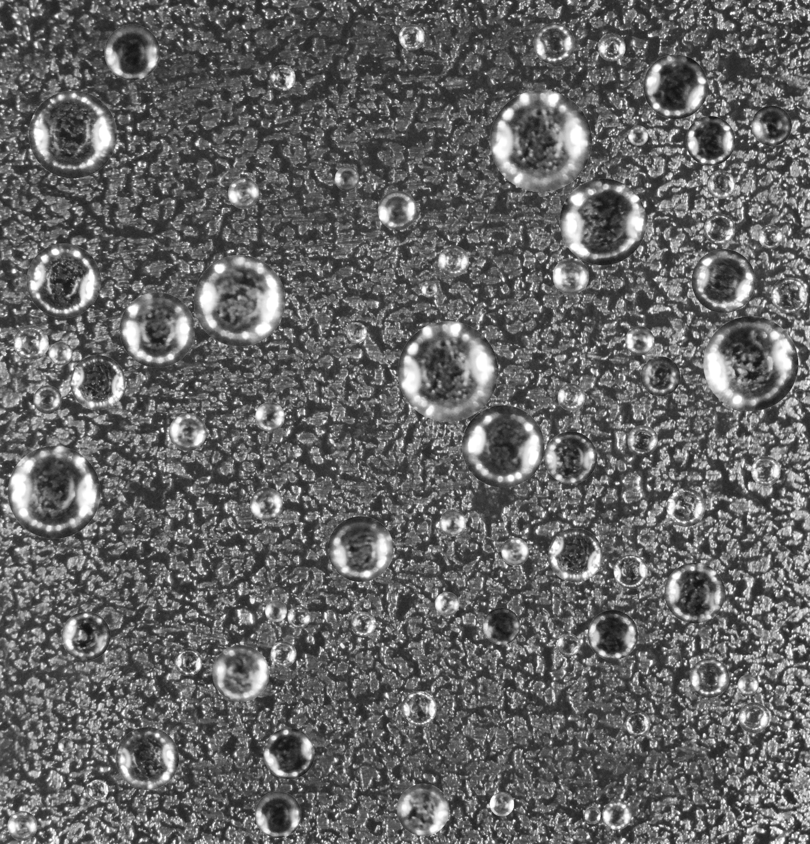Bubble: (490, 90, 591, 191), (397, 321, 498, 421), (703, 316, 798, 411), (7, 446, 100, 538), (193, 255, 285, 346), (28, 90, 116, 178), (559, 178, 646, 265), (462, 405, 544, 487), (119, 292, 194, 367), (26, 243, 100, 317), (327, 516, 393, 581), (643, 54, 708, 118), (691, 249, 755, 312), (116, 727, 178, 790), (664, 562, 725, 623), (212, 645, 269, 701), (104, 24, 159, 80), (70, 355, 125, 410), (548, 528, 602, 582), (544, 431, 597, 483), (397, 783, 449, 836), (263, 728, 314, 779), (587, 610, 637, 660), (685, 116, 735, 165), (61, 611, 110, 660), (254, 791, 301, 838), (533, 23, 574, 64), (640, 356, 680, 396), (751, 105, 791, 145), (689, 658, 729, 697), (666, 488, 705, 526), (378, 191, 416, 229), (169, 413, 206, 450), (483, 607, 520, 644), (552, 258, 589, 294), (771, 277, 806, 313), (13, 325, 48, 360), (401, 691, 436, 726), (613, 554, 647, 588), (250, 487, 283, 520), (704, 213, 735, 245), (228, 177, 259, 208), (738, 702, 769, 733), (438, 245, 468, 276), (627, 425, 657, 455), (7, 811, 37, 840), (255, 402, 284, 431), (602, 800, 631, 829), (625, 326, 654, 355), (751, 456, 780, 485), (706, 170, 735, 198), (501, 537, 529, 565), (597, 33, 625, 61), (33, 385, 61, 413), (557, 383, 585, 410), (174, 648, 202, 675), (439, 509, 466, 536), (398, 24, 424, 50), (269, 64, 295, 90), (270, 641, 296, 667), (351, 611, 376, 636), (625, 711, 650, 736), (489, 792, 514, 816), (334, 166, 359, 190), (435, 592, 459, 616), (48, 341, 72, 365), (758, 224, 782, 248), (287, 605, 310, 628), (557, 633, 580, 656), (265, 600, 286, 622), (737, 674, 758, 695), (87, 779, 108, 800), (628, 125, 648, 145), (346, 322, 366, 342), (583, 807, 600, 824), (421, 281, 437, 297), (58, 738, 73, 753), (794, 388, 805, 400), (334, 765, 345, 776), (284, 16, 295, 27)
